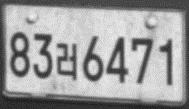1: (155, 36, 174, 87)
3: (33, 32, 53, 80)
4: (105, 37, 129, 83)
6: (82, 34, 104, 82)
7: (130, 36, 154, 86)
8: (8, 31, 31, 77)
러: (55, 41, 78, 82)
